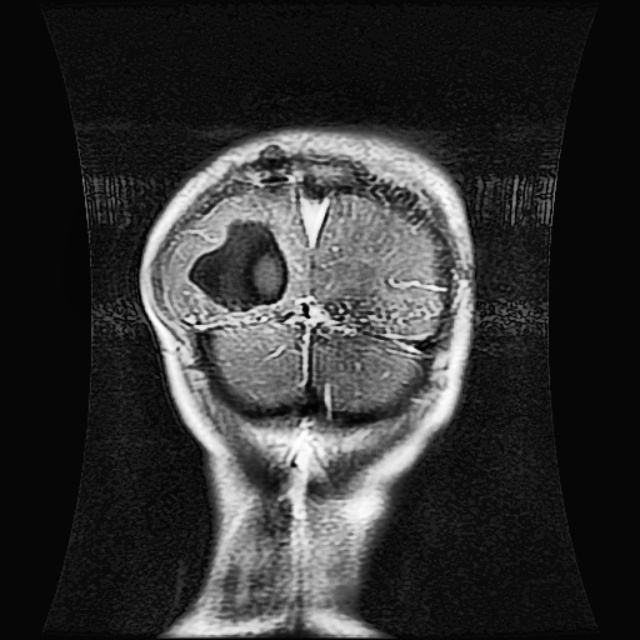Meningioma: (185, 215, 293, 314)
